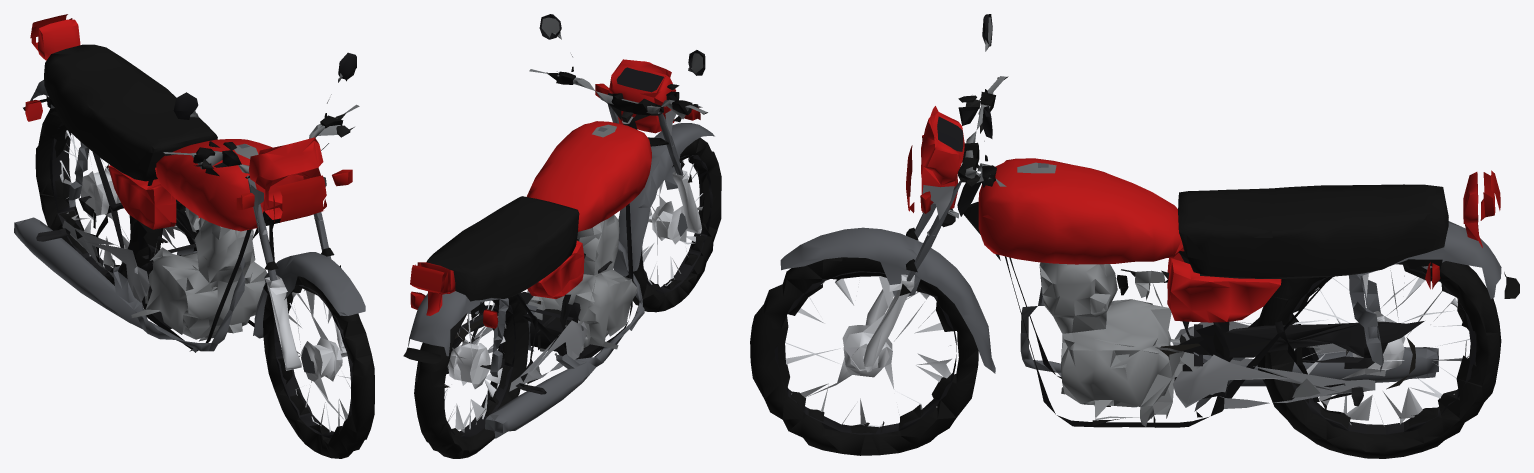
The model's file is HondaClassique_LOD.obj.
3 views of the same model, side by side, from view 1: azimuth 30°, elevation 25°; view 2: azimuth 150°, elevation 25°; view 3: azimuth 270°, elevation 25° (orthographic). The views are drawn at different scales.
Parts seen in each view (by area): view 1: Caisse_Corps_jok, Caisse_Corps_mesin, RoueAV_Corps_ban, Caisse_Corps_abuxabu, Caisse_Peinture_body, Direction_Corps_abuxabu, Caisse_Peinture_plastik, RoueAR_Corps_ban, Direction_Peinture_plastik, Caisse_Corps_rangka, RoueAV_Corps_chrome, Caisse_Corps_arms (+10 smaller); view 2: Caisse_Corps_jok, Caisse_Peinture_body, Caisse_Corps_abuxabu, RoueAR_Corps_ban, Caisse_Corps_mesin, Direction_Corps_abuxabu, RoueAV_Corps_ban, Caisse_Corps_rangka, RoueAR_Corps_chrome, Caisse_Peinture_plastik, Direction_Peinture_plastik, Caisse_Corps_arms (+13 smaller); view 3: Caisse_Corps_jok, Caisse_Peinture_body, Caisse_Corps_mesin, RoueAV_Corps_ban, RoueAR_Corps_ban, Direction_Corps_abuxabu, Caisse_Corps_abuxabu, Caisse_Peinture_plastik, Caisse_Corps_tutupxrantai, Caisse_Corps_arms, Caisse_Corps_rangka, RoueAV_Corps_chrome (+9 smaller).
Part boxes in pixels (<box>): Caisse_Corps_jok: <box>44,44,217,228</box>; Caisse_Corps_mesin: <box>131,217,266,341</box>; RoueAV_Corps_ban: <box>263,276,374,458</box>; Caisse_Corps_abuxabu: <box>14,80,249,352</box>; Caisse_Peinture_body: <box>155,139,279,231</box>; Direction_Corps_abuxabu: <box>247,175,365,373</box>; Caisse_Peinture_plastik: <box>27,19,200,229</box>; RoueAR_Corps_ban: <box>35,108,161,285</box>; Direction_Peinture_plastik: <box>249,137,323,219</box>; Caisse_Corps_rangka: <box>75,152,274,351</box>; RoueAV_Corps_chrome: <box>288,290,350,431</box>; Caisse_Corps_arms: <box>62,220,195,302</box>; Caisse_Corps_jok: <box>426,196,579,349</box>; Caisse_Peinture_body: <box>526,121,651,231</box>; Caisse_Corps_abuxabu: <box>408,127,644,438</box>; RoueAR_Corps_ban: <box>414,293,529,458</box>; Caisse_Corps_mesin: <box>527,215,637,351</box>; Direction_Corps_abuxabu: <box>608,104,714,276</box>; RoueAV_Corps_ban: <box>623,137,721,312</box>; Caisse_Corps_rangka: <box>446,117,637,384</box>; RoueAR_Corps_chrome: <box>444,300,506,432</box>; Caisse_Peinture_plastik: <box>411,240,584,327</box>; Direction_Peinture_plastik: <box>609,59,675,133</box>; Caisse_Corps_arms: <box>447,320,587,391</box>; Caisse_Corps_jok: <box>1178,184,1448,417</box>; Caisse_Peinture_body: <box>978,158,1183,264</box>; Caisse_Corps_mesin: <box>1039,262,1184,426</box>; RoueAV_Corps_ban: <box>750,257,978,455</box>; RoueAR_Corps_ban: <box>1257,260,1501,458</box>; Direction_Corps_abuxabu: <box>780,180,995,373</box>; Caisse_Corps_abuxabu: <box>1020,163,1501,411</box>; Caisse_Peinture_plastik: <box>1167,172,1482,322</box>; Caisse_Corps_tutupxrantai: <box>1121,269,1424,406</box>; Caisse_Corps_arms: <box>1172,321,1375,408</box>; Caisse_Corps_rangka: <box>957,180,1365,427</box>; RoueAV_Corps_chrome: <box>785,276,952,427</box>.
Size of the model in its own units: 0.665 by 1.1 by 1.95.
